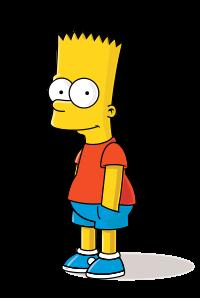Bart: (39, 18, 149, 290)
